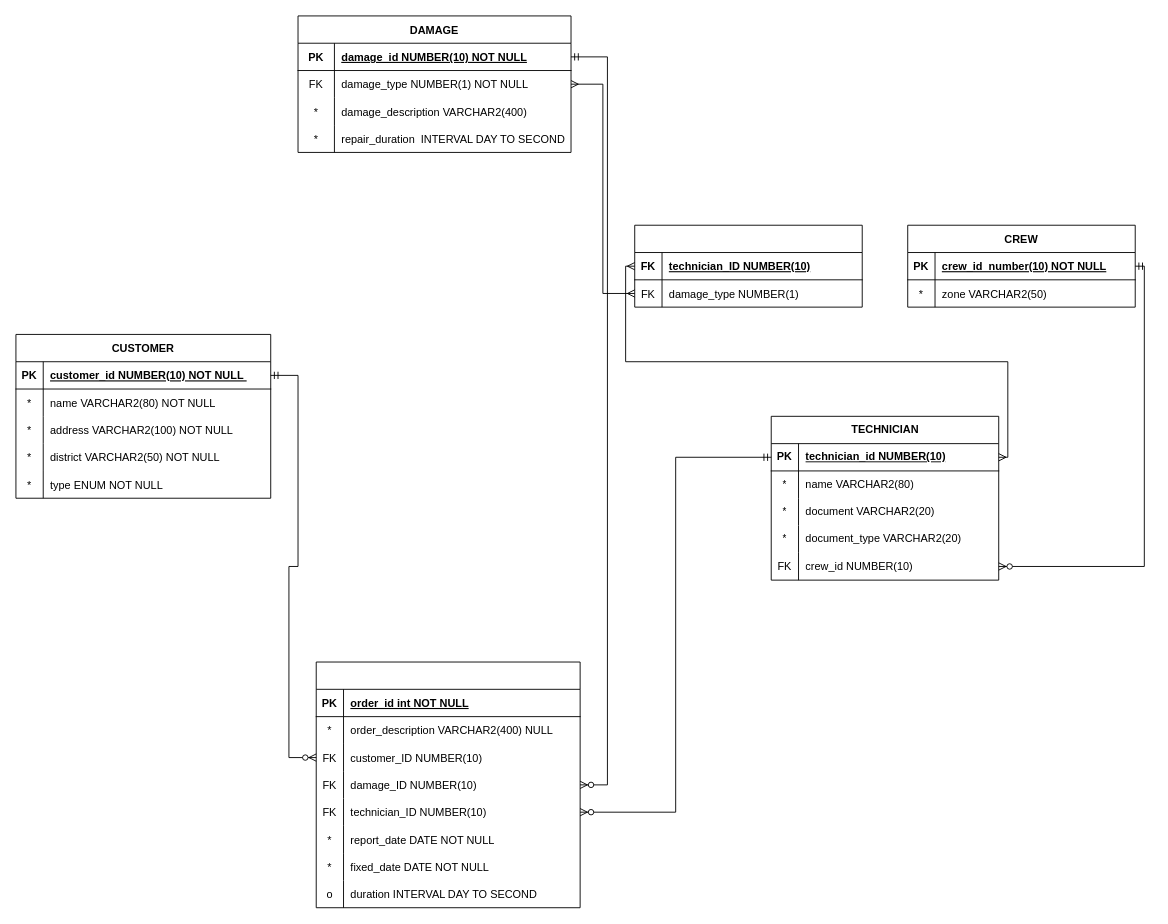
This 1168x924 diagram has some shape labels left out. The shapes that lost their labels are listed below. From the top down, each one's box as (x1, y1, x2, y2) in pixels, then its label:
(634, 224, 862, 307): TECHNICIAN_SPECIALITY
(315, 661, 580, 908): ATTENTION_ORDER
